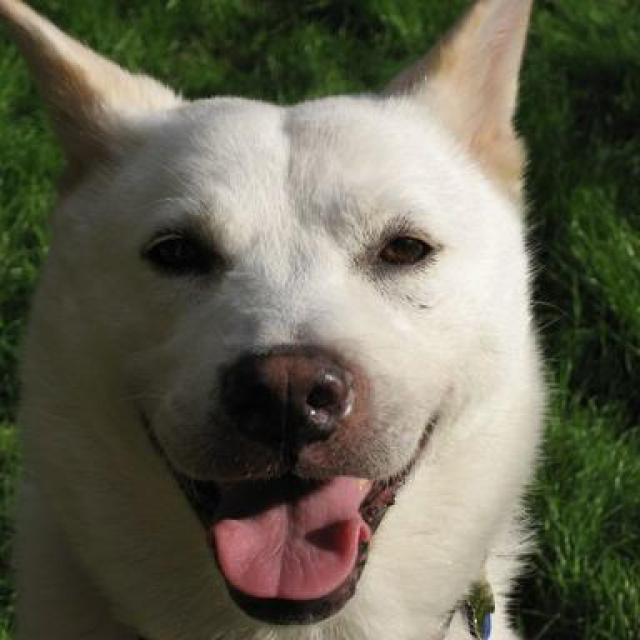adult_dog: (1, 1, 547, 640)
